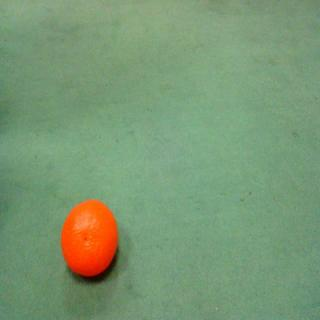orange: (60, 197, 120, 284)
